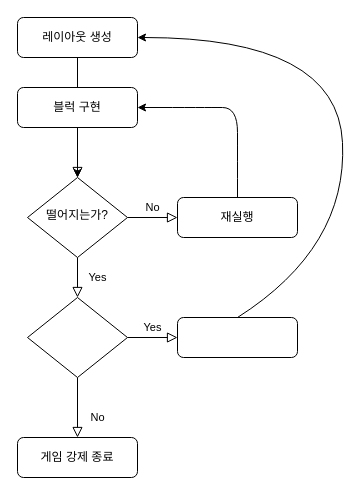
This 361x495 diagram has some shape labels left out. The centre of each missing label's shape, as x and y in pixels:
게임 재실행: point (237, 337)
게임오버: point (77, 337)
